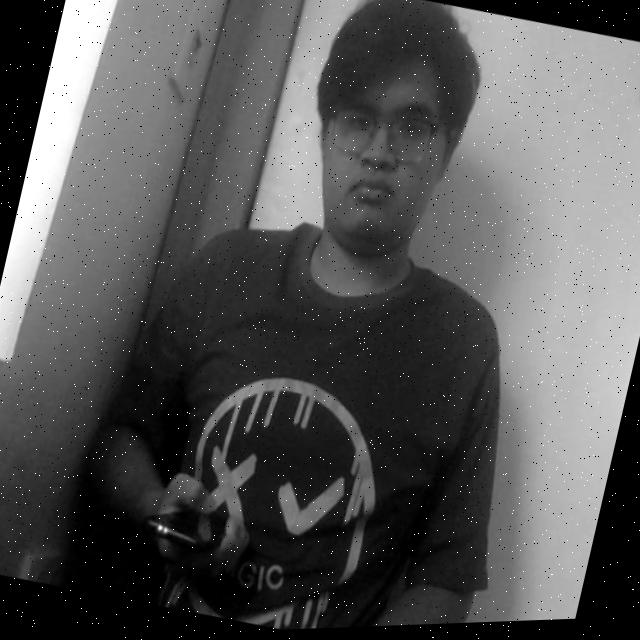phone: (132, 492, 255, 588)
